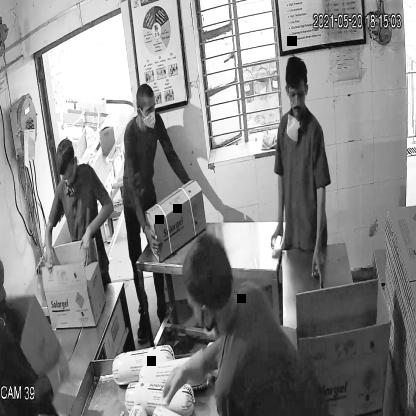goggles: (58, 168, 80, 184)
no_goggles: (284, 85, 310, 103), (137, 104, 159, 119)
